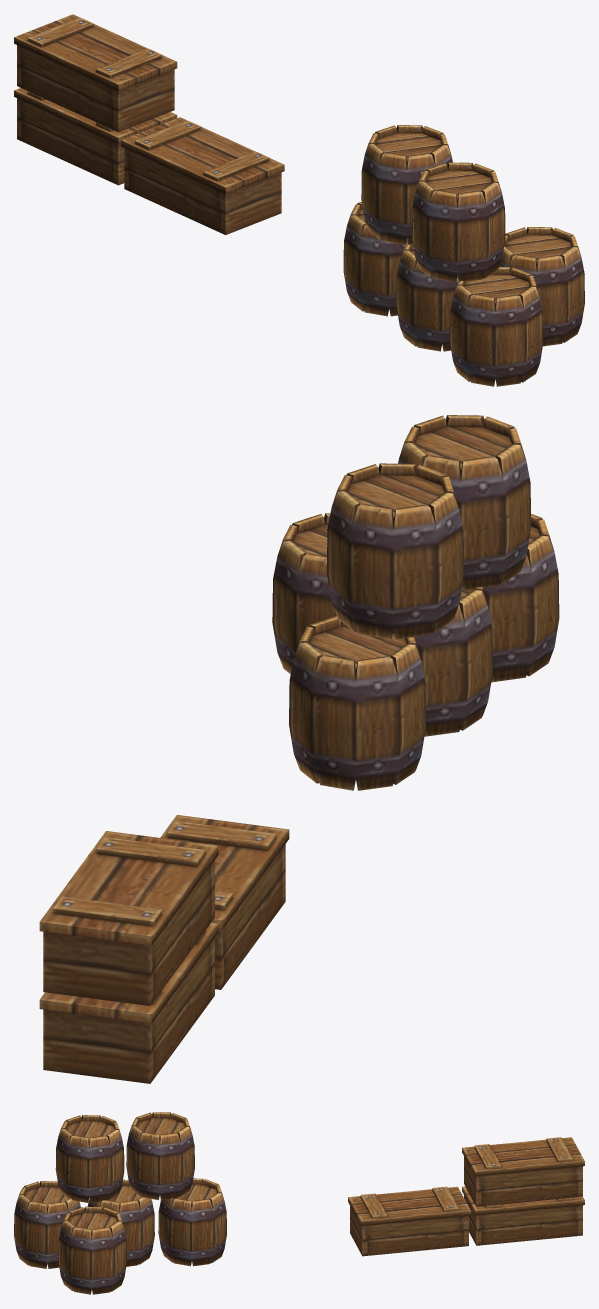
The model's file is Area_13_63.fbx.
3 renders of one model, top to bottom at view 1: azimuth 30°, elevation 25°; view 2: azimuth 150°, elevation 25°; view 3: azimuth 270°, elevation 25°, orthographic. The views are drawn at different scales.
Parts seen in each view (by area): view 1: Area_13_63; view 2: Area_13_63; view 3: Area_13_63.
Part boxes in pixels (box(x1,y1,x2,y2)): Area_13_63: box(14, 14, 584, 386); Area_13_63: box(39, 415, 559, 1083); Area_13_63: box(14, 1112, 584, 1294).
Bounding box in the file's own units: 312 × 219 × 882.
